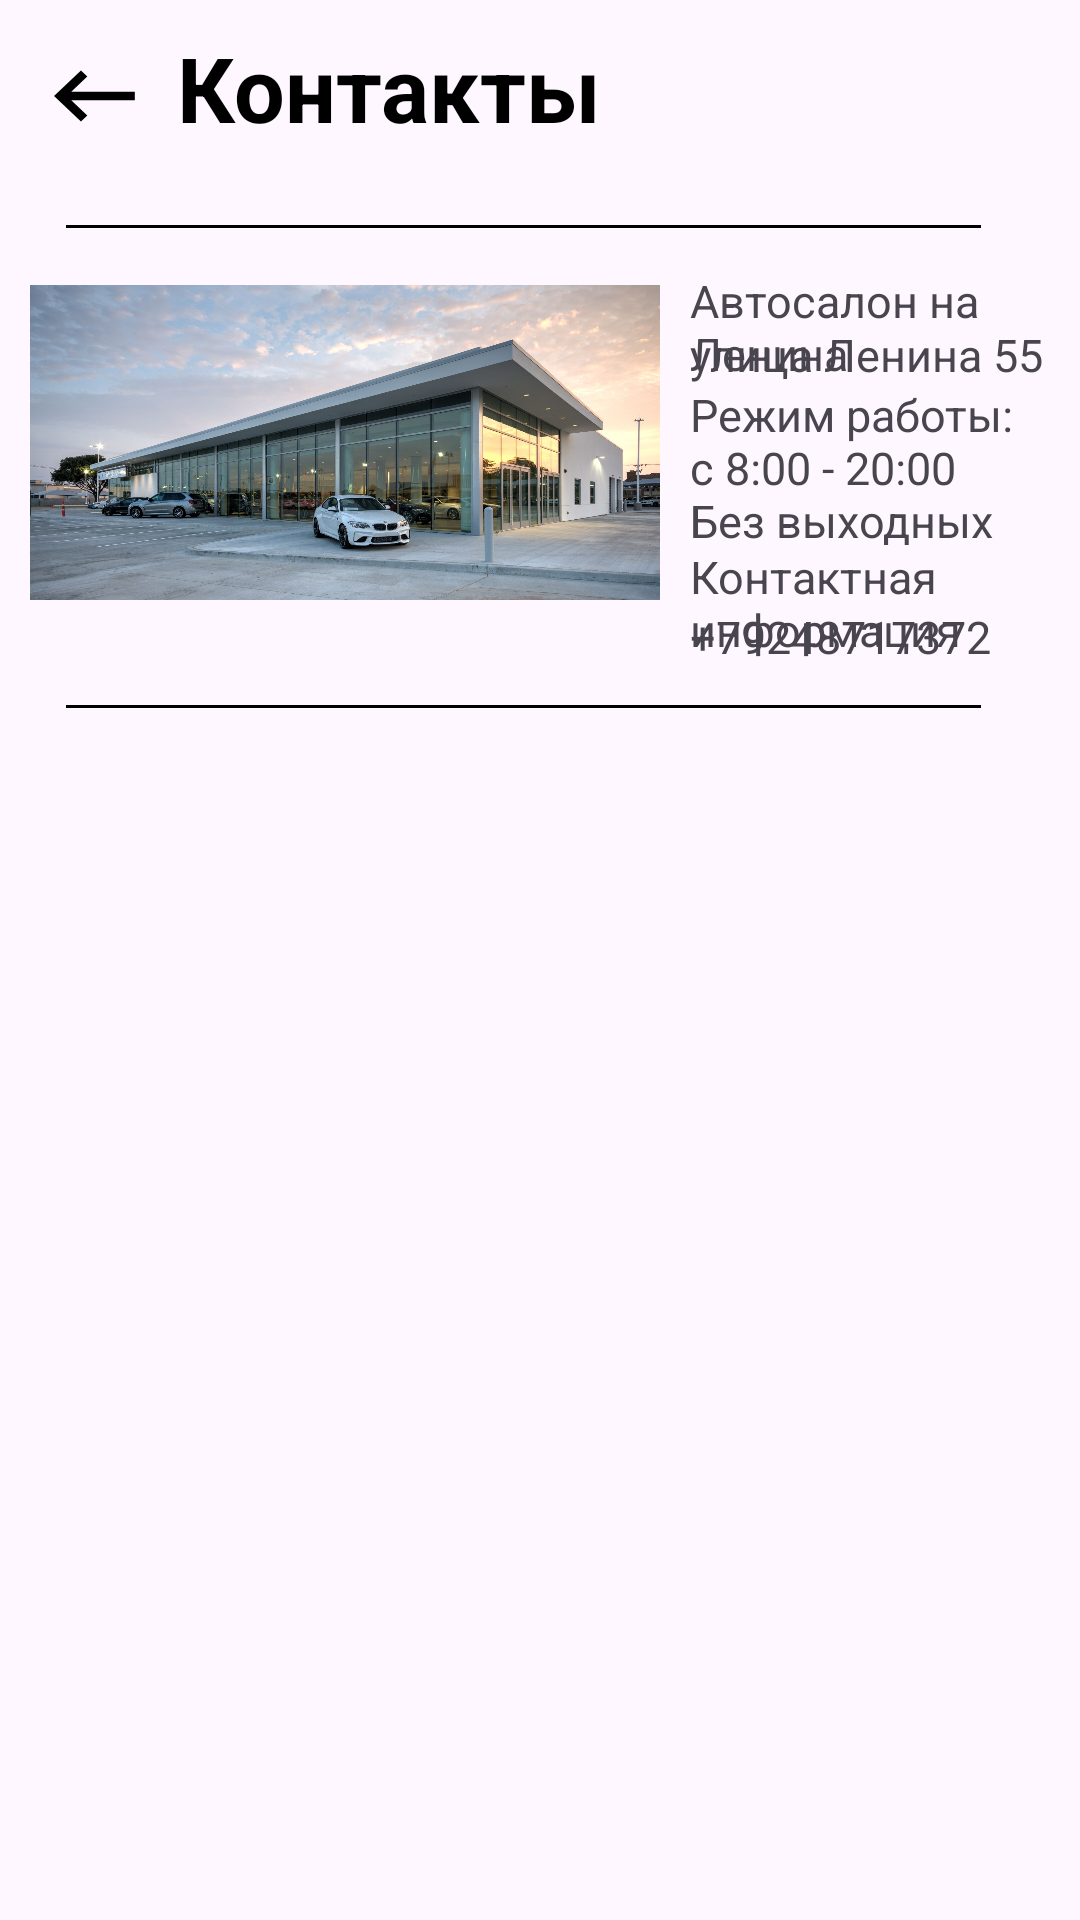

Icon click points for this 1080w x 1920h phone screenshot, format (x,y):
back: (94,96)
